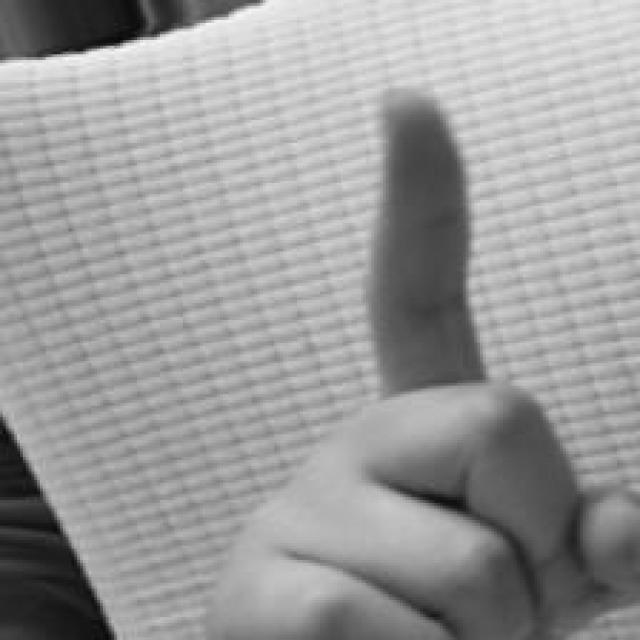I: (200, 83, 640, 637)
